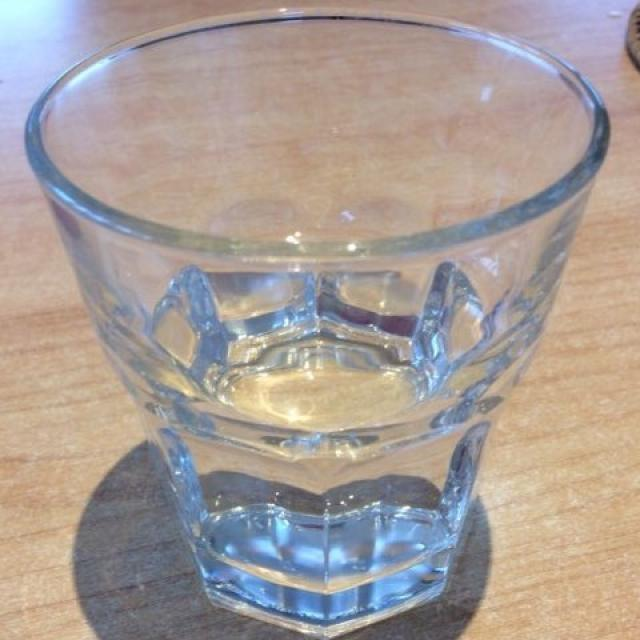water: (134, 261, 505, 621)
